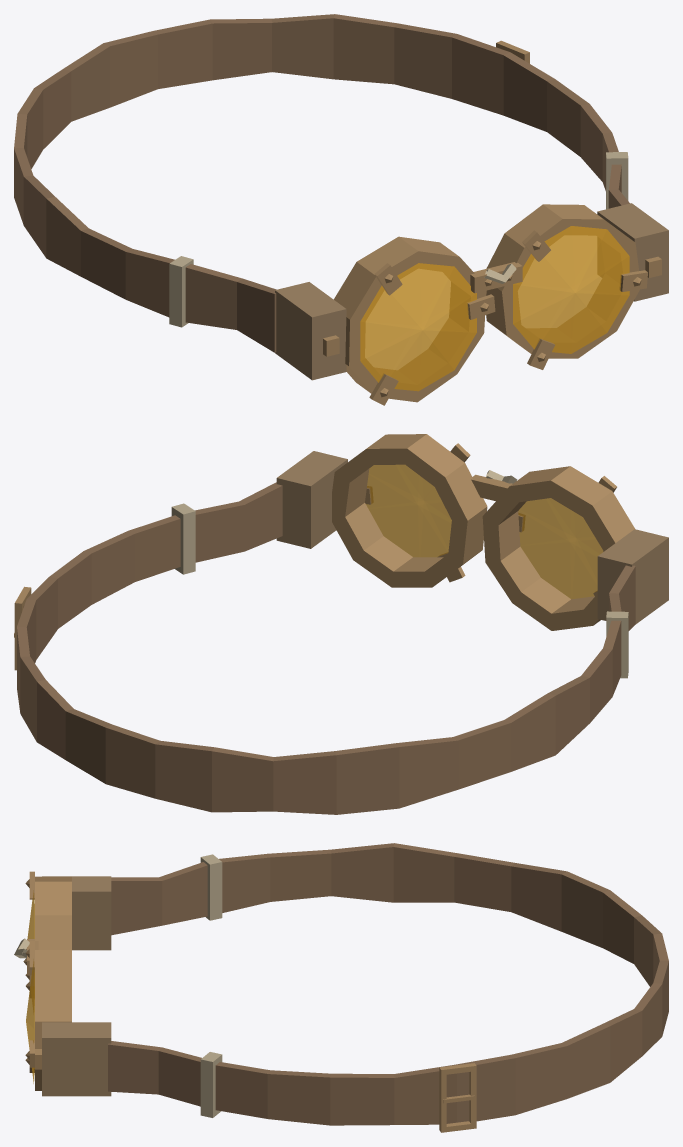
The model's file is goggles_t1.fbx.
3 views of the same model, one above another, from view 1: azimuth 30°, elevation 25°; view 2: azimuth 150°, elevation 25°; view 3: azimuth 270°, elevation 25° (orthographic). The views are drawn at different scales.
Parts seen in each view (by area): view 1: goggles_t1; view 2: goggles_t1; view 3: goggles_t1.
Part boxes in pixels (x1,y1,x2,y2): goggles_t1: (14, 14, 668, 405); goggles_t1: (14, 434, 668, 814); goggles_t1: (14, 843, 668, 1132).
Size of the model in its own units: 23.69 by 6.71 by 28.42.
